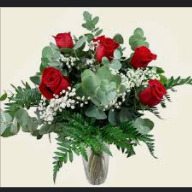RedRose: (33, 64, 73, 98), (142, 76, 165, 109), (93, 29, 118, 58), (132, 44, 153, 69), (53, 33, 75, 55)
